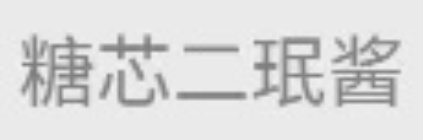TextView: (1, 1, 422, 139)
